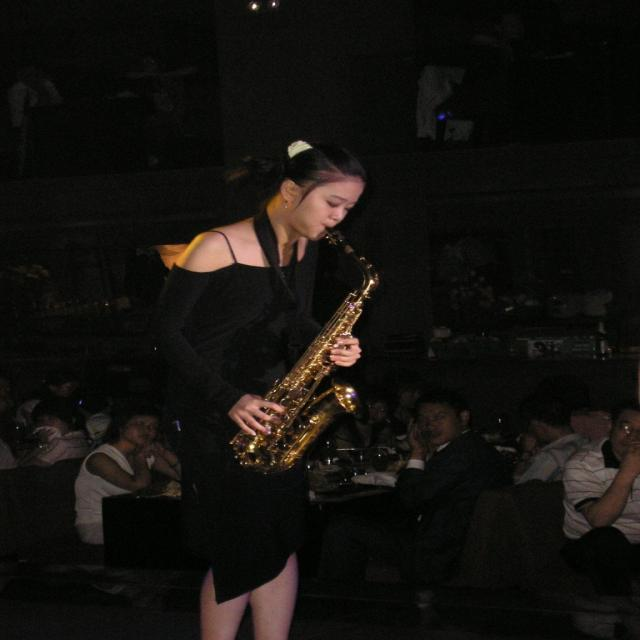saxophone: (227, 226, 380, 479)
